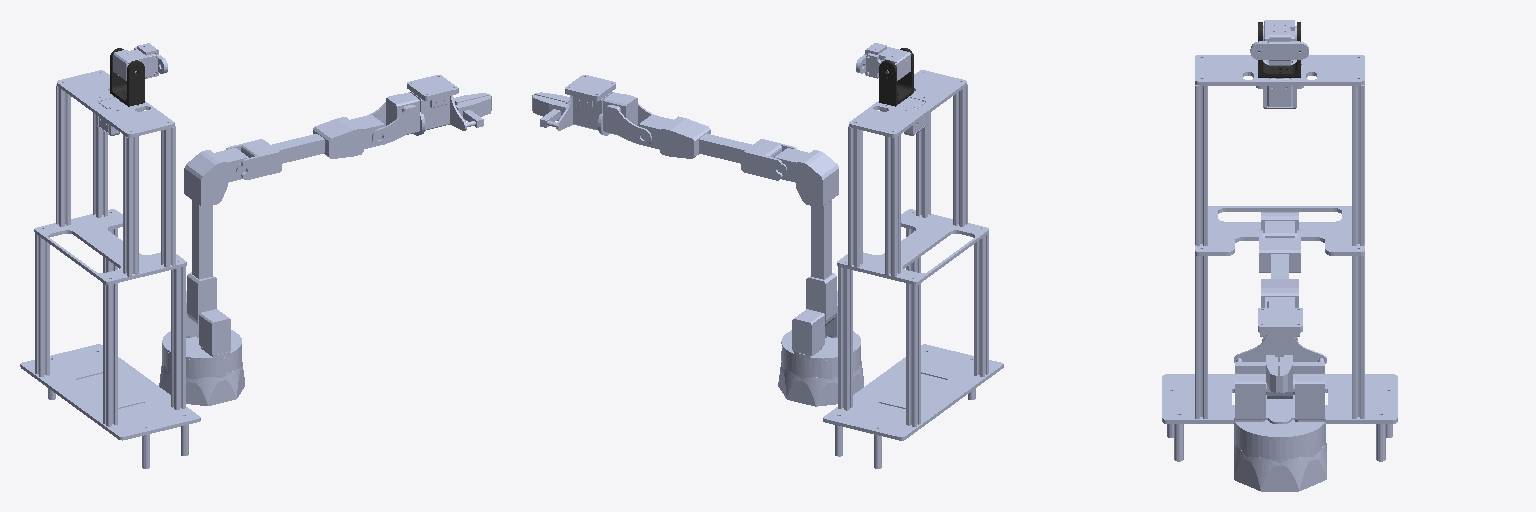
--- Render facts (derived) ---
3 views of the same robot in one strip: view 1: azimuth 30°, elevation 25°; view 2: azimuth 150°, elevation 25°; view 3: azimuth 270°, elevation 25° (orthographic).
Model locobot with 25 links and 24 joints (7 revolute, 2 continuous, 2 prismatic, 13 fixed), rooted at base_footprint, posed all joints at 0.
Links seen in each view (by area): view 1: cam_mount, elbow_link, forearm_link, arm_base_link, shoulder_link, wrist_link, gripper_link, head_pan_link, head_tilt_link, ar_tag; view 2: cam_mount, elbow_link, forearm_link, arm_base_link, shoulder_link, wrist_link, gripper_link, head_pan_link, head_tilt_link, ar_tag; view 3: cam_mount, arm_base_link, shoulder_link, forearm_link, gripper_link, head_tilt_link, elbow_link, ar_tag, head_pan_link.
Boxes of the visible links, left/top/right/bottom form: cam_mount: left=20, top=70, right=200, bottom=468; elbow_link: left=184, top=148, right=248, bottom=325; forearm_link: left=226, top=115, right=385, bottom=179; arm_base_link: left=159, top=345, right=244, bottom=405; shoulder_link: left=162, top=291, right=241, bottom=359; wrist_link: left=369, top=92, right=419, bottom=145; gripper_link: left=410, top=92, right=483, bottom=135; head_pan_link: left=110, top=48, right=144, bottom=106; head_tilt_link: left=113, top=43, right=167, bottom=80; ar_tag: left=407, top=75, right=458, bottom=107; cam_mount: left=823, top=70, right=1003, bottom=468; elbow_link: left=774, top=148, right=838, bottom=325; forearm_link: left=637, top=115, right=797, bottom=180; arm_base_link: left=778, top=347, right=863, bottom=406; shoulder_link: left=781, top=291, right=860, bottom=360; wrist_link: left=603, top=92, right=656, bottom=145; gripper_link: left=540, top=92, right=612, bottom=135; head_pan_link: left=879, top=48, right=913, bottom=106; head_tilt_link: left=856, top=43, right=910, bottom=80; ar_tag: left=565, top=75, right=615, bottom=107; cam_mount: left=1162, top=55, right=1397, bottom=461; arm_base_link: left=1234, top=420, right=1326, bottom=491; shoulder_link: left=1234, top=374, right=1325, bottom=439; forearm_link: left=1259, top=230, right=1300, bottom=307; gripper_link: left=1234, top=333, right=1326, bottom=373; head_tilt_link: left=1250, top=20, right=1308, bottom=65; elbow_link: left=1261, top=212, right=1298, bottom=398; ar_tag: left=1258, top=308, right=1302, bottom=339; head_pan_link: left=1258, top=22, right=1300, bottom=77.
Size in the robot's own frame: 0.6194 by 0.26 by 0.5263 metres.
12 mesh visuals loaded from 16 distinct referenced files (12 binary STL); not drawn: 3 (reference not matched to a file when rendering), 3 (file found but could not be loaded).

robot.urdf — locobot:
<?xml version="1.0" ?>
<robot name="locobot">
    <!-- Kobuki -->
    <link name="base_footprint"/>
    <!--
       Base link is set at the bottom of the base mould.
       This is done to be compatible with the way base link
       was configured for turtlebot 1. Refer to

       https://github.com/turtlebot/turtlebot/issues/40

       To put the base link at the more oft used wheel
       axis, set the z-distance from the base_footprint
       to 0.352.
      -->
    <joint name="base_joint" type="fixed">
        <origin rpy="0 0 0" xyz="0 0 0.0102"/>
        <parent link="base_footprint"/>
        <child link="base_link"/>
    </joint>
    <link name="base_link">
        <visual>
            <geometry>
                <!-- new mesh -->
                <mesh filename="package://locobot_description/meshes/main_body.dae"/>
            </geometry>
            <origin rpy="0 0 0" xyz="0.001 0 0.05199"/>
        </visual>
        <collision name="base">
            <geometry>
                <cylinder length="0.10938" radius="0.178"/>
            </geometry>
            <origin rpy="0 0 0" xyz="0.0 0 0.05949"/>
        </collision>
        <inertial>
            <!-- COM experimentally determined -->
            <origin xyz="0.01 0 0"/>
            <mass value="2.4"/>
            <!-- 2.4/2.6 kg for small/big battery pack -->
            <!-- Kobuki's inertia tensor is approximated by a cylinder with homogeneous mass distribution
             More details: http://en.wikipedia.org/wiki/List_of_moment_of_inertia_tensors
             m = 2.4 kg; h = 0.09 m; r = 0.175 m
             ixx = 1/12 * m * (3 * r^2 + h^2)
             iyy = 1/12 * m * (3 * r^2 + h^2)
             izz = 1/2 * m * r^2
          -->
            <inertia ixx="0.019995" ixy="0.0" ixz="0.0" iyy="0.019995" iyz="0.0" izz="0.03675"/>
        </inertial>
    </link>
    <joint name="wheel_left_joint" type="continuous">
        <parent link="base_link"/>
        <child link="wheel_left_link"/>
        <origin rpy="-1.57079632679 0 0" xyz="0.00 0.115 0.0250"/>
        <axis xyz="0 0 1"/>
    </joint>
    <link name="wheel_left_link">
        <visual>
            <geometry>
                <mesh filename="package://locobot_description/meshes/wheel.dae"/>
            </geometry>
            <origin rpy="0 0 0" xyz="0 0 0"/>
        </visual>
        <collision>
            <geometry>
                <cylinder length="0.0206" radius="0.0352"/>
            </geometry>
            <origin rpy="0 0 0" xyz="0 0 0"/>
        </collision>
        <inertial>
            <mass value="0.01"/>
            <origin xyz="0 0 0"/>
            <inertia ixx="0.001" ixy="0.0" ixz="0.0" iyy="0.001" iyz="0.0" izz="0.001"/>
        </inertial>
    </link>
    <joint name="wheel_right_joint" type="continuous">
        <parent link="base_link"/>
        <child link="wheel_right_link"/>
        <origin rpy="-1.57079632679 0 0" xyz="0.00 -0.115 0.0250"/>
        <axis xyz="0 0 1"/>
    </joint>
    <link name="wheel_right_link">
        <visual>
            <geometry>
                <mesh filename="package://locobot_description/meshes/wheel.dae"/>
            </geometry>
            <origin rpy="0 0 0" xyz="0 0 0"/>
        </visual>
        <collision>
            <geometry>
                <cylinder length="0.0206" radius="0.0350"/>
            </geometry>
            <origin rpy="0 0 0" xyz="0 0 0"/>
        </collision>
        <inertial>
            <mass value="0.01"/>
            <origin xyz="0 0 0"/>
            <inertia ixx="0.001" ixy="0.0" ixz="0.0" iyy="0.001" iyz="0.0" izz="0.001"/>
        </inertial>
    </link>
    <joint name="caster_front_joint" type="fixed">
        <parent link="base_link"/>
        <child link="caster_front_link"/>
        <origin rpy="-1.57079632679 0 0" xyz="0.115 0.0 0.007"/>
    </joint>
    <link name="caster_front_link">
        <collision>
            <geometry>
                <cylinder length="0.0176" radius="0.017"/>
            </geometry>
            <origin rpy="0 0 0" xyz="0 0 0"/>
        </collision>
        <inertial>
            <mass value="0.01"/>
            <origin xyz="0 0 0"/>
            <inertia ixx="0.001" ixy="0.0" ixz="0.0" iyy="0.001" iyz="0.0" izz="0.001"/>
        </inertial>
    </link>
    <joint name="caster_back_joint" type="fixed">
        <parent link="base_link"/>
        <child link="caster_back_link"/>
        <origin rpy="-1.57079632679 0 0" xyz="-0.135 0.0 0.009"/>
    </joint>
    <link name="caster_back_link">
        <collision>
            <geometry>
                <cylinder length="0.0176" radius="0.017"/>
            </geometry>
            <origin rpy="0 0 0" xyz="0 0 0"/>
        </collision>
        <inertial>
            <mass value="0.01"/>
            <origin xyz="0 0 0"/>
            <inertia ixx="0.001" ixy="0.0" ixz="0.0" iyy="0.001" iyz="0.0" izz="0.001"/>
        </inertial>
    </link>
    <!-- Kobuki's sensors -->
    <joint name="gyro_joint" type="fixed">
        <axis xyz="0 1 0"/>
        <origin rpy="0 0 0" xyz="0.056 0.062 0.0202"/>
        <parent link="base_link"/>
        <child link="gyro_link"/>
    </joint>
    <link name="gyro_link">
        <inertial>
            <mass value="0.001"/>
            <origin rpy="0 0 0" xyz="0 0 0"/>
            <inertia ixx="0.0001" ixy="0" ixz="0" iyy="0.000001" iyz="0" izz="0.0001"/>
        </inertial>
    </link>
    <joint name="cliff_sensor_left_joint" type="fixed">
        <origin rpy="0 1.57079632679 0" xyz="0.08734 0.13601 0.0214"/>
        <parent link="base_link"/>
        <child link="cliff_sensor_left_link"/>
    </joint>
    <link name="cliff_sensor_left_link">
        <inertial>
            <mass value="0.0001"/>
            <origin xyz="0 0 0"/>
            <inertia ixx="0.0001" ixy="0.0" ixz="0.0" iyy="0.0001" iyz="0.0" izz="0.0001"/>
        </inertial>
    </link>
    <joint name="cliff_sensor_right_joint" type="fixed">
        <origin rpy="0 1.57079632679 0" xyz="0.085 -0.13601 0.0214"/>
        <parent link="base_link"/>
        <child link="cliff_sensor_right_link"/>
    </joint>
    <link name="cliff_sensor_right_link">
        <inertial>
            <mass value="0.0001"/>
            <origin xyz="0 0 0"/>
            <inertia ixx="0.0001" ixy="0.0" ixz="0.0" iyy="0.0001" iyz="0.0" izz="0.0001"/>
        </inertial>
    </link>
    <joint name="cliff_sensor_front_joint" type="fixed">
        <origin rpy="0 1.57079632679 0" xyz="0.156 0.00 0.0214"/>
        <parent link="base_link"/>
        <child link="cliff_sensor_front_link"/>
    </joint>
    <link name="cliff_sensor_front_link">
        <inertial>
            <mass value="0.0001"/>
            <origin xyz="0 0 0"/>
            <inertia ixx="0.0001" ixy="0.0" ixz="0.0" iyy="0.0001" iyz="0.0" izz="0.0001"/>
        </inertial>
    </link>
    <!-- plates  -->
    <link name="plate_1">
        <inertial>
            <origin rpy="0 0 0" xyz="0 0 0"/>
            <mass value="0.640128902693298"/>
            <inertia ixx="0.0212697824374231" ixy="-1.84819421839641E-07" ixz="0.00177278831625861" iyy="0.0200161122874848" iyz="1.82514218153984E-07" izz="0.00538401325307411"/>
        </inertial>
        <visual>
            <origin rpy="0 0 0" xyz="0 0 0"/>
            <geometry>
                <mesh filename="package://locobot_description/meshes/plate.STL"/>
            </geometry>
            <material name="">
                <color rgba="0.792156862745098 0.819607843137255 0.933333333333333 1"/>
            </material>
        </visual>
        <collision>
            <origin rpy="0 0 0" xyz="0 0 0"/>
            <geometry>
                <mesh filename="package://locobot_description/meshes/plate.STL"/>
            </geometry>
        </collision>
    </link>
    <joint name="plate_1_joint" type="fixed">
        <origin rpy="0 0 0" xyz="0.0973 0 0.0902375"/>
        <parent link="base_link"/>
        <child link="plate_1"/>
        <axis xyz="0 0 0"/>
    </joint>
    <link name="plate_2">
        <inertial>
            <origin rpy="0 0 0" xyz="0 0 0"/>
            <mass value="0.640128902693298"/>
            <inertia ixx="0.0212697824374231" ixy="-1.84819421839641E-07" ixz="0.00177278831625861" iyy="0.0200161122874848" iyz="1.82514218153984E-07" izz="0.00538401325307411"/>
        </inertial>
        <visual>
            <origin rpy="0 0 0" xyz="0 0 0"/>
            <geometry>
                <mesh filename="package://locobot_description/meshes/plate.STL"/>
            </geometry>
            <material name="">
                <color rgba="0.792156862745098 0.819607843137255 0.933333333333333 1"/>
            </material>
        </visual>
        <collision>
            <origin rpy="0 0 0" xyz="0 0 0"/>
            <geometry>
                <mesh filename="package://locobot_description/meshes/plate.STL"/>
            </geometry>
        </collision>
    </link>
    <joint name="plate_2_joint" type="fixed">
        <origin rpy="0 0 0" xyz="0 0 0.0047625"/>
        <parent link="plate_1"/>
        <child link="plate_2"/>
        <axis xyz="0 0 0"/>
    </joint>
    <!-- add arm -->
    <link name="arm_base_link">
        <inertial>
            <origin rpy="0 0 0" xyz="-1.86027246940057E-08 -1.84987775462994E-08 0.0400356424684456"/>
            <mass value="0.531491686912019"/>
            <inertia ixx="0.000533657400855491" ixy="-4.44205269454465E-09" ixz="2.11078566024265E-10" iyy="0.000533665698902565" iyz="5.02029005902419E-11" izz="0.00071572082392375"/>
        </inertial>
        <visual>
            <origin rpy="0 0 0" xyz="0 0 0"/>
            <geometry>
                <mesh filename="package://locobot_description/meshes/arm_base_link.STL"/>
            </geometry>
            <material name="">
                <color rgba="0.792156862745098 0.819607843137255 0.933333333333333 1"/>
            </material>
        </visual>
        <collision>
            <origin rpy="0 0 0" xyz="0 0 0"/>
            <geometry>
                <mesh filename="package://locobot_description/meshes/arm_base_link.STL"/>
            </geometry>
        </collision>
    </link>
    <joint name="arm_base_link_joint" type="fixed">
        <origin rpy="0 0 0" xyz="0 0 0.001"/>
        <parent link="plate_2"/>
        <child link="arm_base_link"/>
        <axis xyz="0 0 0"/>
    </joint>
    <link name="shoulder_link">
        <inertial>
            <origin rpy="0 0 0" xyz="-5.67968980068612E-05 1.09785478984274E-10 0.0228467386735302"/>
            <mass value="0.119861197293521"/>
            <inertia ixx="0.000161288180462291" ixy="7.59806211309873E-14" ixz="-1.45323090659527E-07" iyy="5.49696562437107E-05" iyz="1.81052501311883E-13" izz="0.000150800672543169"/>
        </inertial>
        <visual>
            <origin rpy="0 0 0" xyz="0 0 0"/>
            <geometry>
                <mesh filename="package://locobot_description/meshes/shoulder_link.STL"/>
            </geometry>
            <material name="">
                <color rgba="0.792156862745098 0.819607843137255 0.933333333333333 1"/>
            </material>
        </visual>
        <collision>
            <origin rpy="0 0 0" xyz="0 0 0"/>
            <geometry>
                <mesh filename="package://locobot_description/meshes/shoulder_link.STL"/>
            </geometry>
        </collision>
    </link>
    <joint name="joint_1" type="revolute">
        <origin rpy="0 0 0" xyz="0 0 0.072"/>
        <parent link="arm_base_link"/>
        <child link="shoulder_link"/>
        <axis xyz="0 0 1"/>
        <limit effort="10" lower="-1.57" upper="1.57" velocity="1"/>
    </joint>
    <link name="elbow_link">
        <inertial>
            <origin rpy="0 0 0" xyz="0.00959755948481227 -2.30930057287648E-10 0.134296795349987"/>
            <mass value="0.212482745791037"/>
            <inertia ixx="0.0011748973771367" ixy="-4.7094567420817E-13" ixz="-0.000132188939134774" iyy="0.00122350302249847" iyz="-5.48932537472287E-12" izz="9.02202689343621E-05"/>
        </inertial>
        <visual>
            <origin rpy="0 0 0" xyz="0 0 0"/>
            <geometry>
                <mesh filename="package://locobot_description/meshes/elbow_link.STL"/>
            </geometry>
            <material name="">
                <color rgba="0.792156862745098 0.819607843137255 0.933333333333333 1"/>
            </material>
        </visual>
        <collision>
            <origin rpy="0 0 0" xyz="0 0 0"/>
            <geometry>
                <mesh filename="package://locobot_description/meshes/elbow_link.STL"/>
            </geometry>
        </collision>
    </link>
    <joint name="joint_2" type="revolute">
        <origin rpy="0 0 0" xyz="0 0 0.04125"/>
        <parent link="shoulder_link"/>
        <child link="elbow_link"/>
        <axis xyz="0 1 0"/>
        <limit effort="10" lower="-1.57" upper="1.57" velocity="1"/>
    </joint>
    <link name="forearm_link">
        <inertial>
            <origin rpy="0 0 0" xyz="0.117829826272582 3.09310973110905E-15 -1.26218883678142E-08"/>
            <mass value="0.18746427435805"/>
            <inertia ixx="3.94142667601686E-05" ixy="-3.65830967659785E-19" ixz="9.25852572167442E-11" iyy="0.000725209569605637" iyz="-1.05290858715495E-18" izz="0.000737165881391993"/>
        </inertial>
        <visual>
            <origin rpy="0 0 0" xyz="0 0 0"/>
            <geometry>
                <mesh filename="package://locobot_description/meshes/forearm_link.STL"/>
            </geometry>
            <material name="">
                <color rgba="0.792156862745098 0.819607843137255 0.933333333333333 1"/>
            </material>
        </visual>
        <collision>
            <origin rpy="0 0 0" xyz="0 0 0"/>
            <geometry>
                <mesh filename="package://locobot_description/meshes/forearm_link.STL"/>
            </geometry>
        </collision>
    </link>
    <joint name="joint_3" type="revolute">
        <origin rpy="0 0 0" xyz="0.05 0 0.2"/>
        <parent link="elbow_link"/>
        <child link="forearm_link"/>
        <axis xyz="0 1 0"/>
        <limit effort="10" lower="-1.57" upper="1.57" velocity="1"/>
    </joint>
    <link name="wrist_link">
        <inertial>
            <origin rpy="0 0 0" xyz="0.0429410028407894 4.98644733821042E-05 0.0114266948023652"/>
            <mass value="0.0605921736680362"/>
            <inertia ixx="1.84998512056284E-05" ixy="-1.03256667343112E-08" ixz="-1.71865409274096E-06" iyy="2.08955068262134E-05" iyz="5.05203399787143E-09" izz="1.97857037442992E-05"/>
        </inertial>
        <visual>
            <origin rpy="0 0 0" xyz="0 0 0"/>
            <geometry>
                <mesh filename="package://locobot_description/meshes/wrist_link.STL"/>
            </geometry>
            <material name="">
                <color rgba="0.792156862745098 0.819607843137255 0.933333333333333 1"/>
            </material>
        </visual>
        <collision>
            <origin rpy="0 0 0" xyz="0 0 0"/>
            <geometry>
                <mesh filename="package://locobot_description/meshes/wrist_link.STL"/>
            </geometry>
        </collision>
    </link>
    <joint name="joint_4" type="revolute">
        <origin rpy="0 0 0" xyz="0.2002 0 0"/>
        <parent link="forearm_link"/>
        <child link="wrist_link"/>
        <axis xyz="0 1 0"/>
        <limit effort="1" lower="-1.57" upper="1.57" velocity="1"/>
    </joint>
    <link name="gripper_link">
        <inertial>
            <origin rpy="0 0 0" xyz="0.0311572802112565 -1.25977280754998E-05 0.0092307003092138"/>
            <mass value="0.0795745052466434"/>
            <inertia ixx="3.27413333929741E-05" ixy="3.7314060486416E-08" ixz="3.97669066588691E-06" iyy="4.47182985231326E-05" iyz="-9.49992756213297E-09" izz="5.02142570756738E-05"/>
        </inertial>
        <visual>
            <origin rpy="0 0 0" xyz="0 0 0"/>
            <geometry>
                <mesh filename="package://locobot_description/meshes/gripper_link.STL"/>
            </geometry>
            <material name="">
                <color rgba="0.792156862745098 0.819607843137255 0.933333333333333 1"/>
            </material>
        </visual>
        <collision>
            <origin rpy="0 0 0" xyz="0 0 0"/>
            <geometry>
                <mesh filename="package://locobot_description/meshes/gripper_link.STL"/>
            </geometry>
        </collision>
    </link>
    <joint name="joint_5" type="revolute">
        <origin rpy="0 0 0" xyz="0.063 0.0001 0"/>
        <parent link="wrist_link"/>
        <child link="gripper_link"/>
        <axis xyz="-1 0 0"/>
        <limit effort="1" lower="-1.57" upper="1.57" velocity="1"/>
    </joint>
    <link name="finger_r">
        <inertial>
            <origin rpy="0 0 0" xyz="0.0100191457715113 -0.00843835347348892 -0.00483280251641866"/>
            <mass value="0.0121931459003602"/>
            <inertia ixx="6.74016278931418E-07" ixy="-2.36459038775023E-07" ixz="3.1480125304693E-09" iyy="3.10966297287339E-06" iyz="1.19271018871704E-10" izz="2.77935600332309E-06"/>
        </inertial>
        <visual>
            <origin rpy="0 0 0" xyz="0 0 0"/>
            <geometry>
                <mesh filename="package://locobot_description/meshes/finger_r.STL"/>
            </geometry>
            <material name="">
                <color rgba="0.792156862745098 0.819607843137255 0.933333333333333 1"/>
            </material>
        </visual>
        <collision>
            <origin rpy="0 0 0" xyz="0 0 0"/>
            <geometry>
                <mesh filename="package://locobot_description/meshes/finger_r.STL"/>
            </geometry>
        </collision>
    </link>
    <joint name="joint_6" type="prismatic">
        <origin rpy="0 0 0" xyz="0.07285 0 0.0050143"/>
        <parent link="gripper_link"/>
        <child link="finger_r"/>
        <axis xyz="0 1 0"/>
        <limit effort="1" lower="-1" upper="0" velocity="1"/>
    </joint>
    <link name="finger_l">
        <inertial>
            <origin rpy="0 0 0" xyz="0.0100191599590265 0.00643833435729511 -0.00483280251641866"/>
            <mass value="0.0121931459003603"/>
            <inertia ixx="6.74017180959932E-07" ixy="2.3646368440071E-07" ixz="3.14801230297432E-09" iyy="3.10966207084492E-06" iyz="-1.19277023229564E-10" izz="2.77935600332313E-06"/>
        </inertial>
        <visual>
            <origin rpy="0 0 0" xyz="0 0 0"/>
            <geometry>
                <mesh filename="package://locobot_description/meshes/finger_l.STL"/>
            </geometry>
            <material name="">
                <color rgba="0.792156862745098 0.819607843137255 0.933333333333333 1"/>
            </material>
        </visual>
        <collision>
            <origin rpy="0 0 0" xyz="0 0 0"/>
            <geometry>
                <mesh filename="package://locobot_description/meshes/finger_l.STL"/>
            </geometry>
        </collision>
    </link>
    <joint name="joint_7" type="prismatic">
        <origin rpy="0 0 0" xyz="0.07285 0 0.0050143"/>
        <parent link="gripper_link"/>
        <child link="finger_l"/>
        <axis xyz="0 1 0"/>
        <limit effort="1" lower="0" upper="1" velocity="1"/>
    </joint>
    <link name="ar_tag">
        <inertial>
            <origin rpy="0 0 0" xyz="-1.59182528269852E-09 1.70641183422241E-09 -0.00509579048106218"/>
            <mass value="0.0202622634619862"/>
            <inertia ixx="4.71058333074219E-06" ixy="3.03778067070489E-12" ixz="6.65421687578365E-13" iyy="4.05773489073818E-06" iyz="1.37033485576347E-13" izz="7.92378853658606E-06"/>
        </inertial>
        <visual>
            <origin rpy="0 0 0" xyz="0 0 0"/>
            <geometry>
                <mesh filename="package://locobot_description/meshes/ar_tag.STL"/>
            </geometry>
            <material name="">
                <color rgba="0.792156862745098 0.819607843137255 0.933333333333333 1"/>
            </material>
        </visual>
        <collision>
            <origin rpy="0 0 0" xyz="0 0 0"/>
            <geometry>
                <mesh filename="package://locobot_description/meshes/ar_tag.STL"/>
            </geometry>
        </collision>
    </link>
    <joint name="ar_tag_joint" type="fixed">
        <origin rpy="0 0 0" xyz="0.0269499999999999 0 0.04315"/>
        <parent link="gripper_link"/>
        <child link="ar_tag"/>
        <axis xyz="0 0 0"/>
    </joint>
    <!-- need to add camera assembly -->
    <link name="cam_mount">
        <inertial>
            <origin rpy="0 0 0" xyz="0.00357169217419921 -0.000144750803528887 0.178406861295468"/>
            <mass value="0.508068698311304"/>
            <inertia ixx="0.0159487749924762" ixy="9.45818767875249E-08" ixz="-0.000266253609478166" iyy="0.0137751425461872" iyz="2.26699147122113E-06" izz="0.00331206257835318"/>
        </inertial>
        <visual>
            <origin rpy="0 0 0" xyz="0 0 0"/>
            <geometry>
                <mesh filename="package://locobot_description/meshes/cam_mount.STL"/>
            </geometry>
            <material name="">
                <color rgba="0.792156862745098 0.819607843137255 0.933333333333333 1"/>
            </material>
        </visual>
        <collision>
            <origin rpy="0 0 0" xyz="0 0 0"/>
            <geometry>
                <mesh filename="package://locobot_description/meshes/cam_mount.STL"/>
            </geometry>
        </collision>
    </link>
    <joint name="cam_mount_joint" type="fixed">
        <origin rpy="0 0 0" xyz="-0.03751 0 0.1331"/>
        <parent link="base_link"/>
        <child link="cam_mount"/>
        <axis xyz="0 0 0"/>
    </joint>
    <link name="head_pan_link">
        <inertial>
            <origin rpy="0 0 0" xyz="-1.35308431126191E-16 -2.97071395261028E-17 0.0220876265081744"/>
            <mass value="0.0182769203076134"/>
            <inertia ixx="1.32243845065555E-05" ixy="5.07660179129181E-13" ixz="1.067515220067E-20" iyy="7.13386116649085E-06" iyz="-1.32882457845217E-20" izz="7.83291781352837E-06"/>
        </inertial>
        <visual>
            <origin rpy="0 0 0" xyz="0 0 0"/>
            <geometry>
                <mesh filename="package://locobot_description/meshes/tilt_link.STL"/>
            </geometry>
            <material name="">
                <color rgba="0.250980392156863 0.250980392156863 0.250980392156863 1"/>
            </material>
        </visual>
        <collision>
            <origin rpy="0 0 0" xyz="0 0 0"/>
            <geometry>
                <mesh filename="package://locobot_description/meshes/tilt_link.STL"/>
            </geometry>
        </collision>
    </link>
    <joint name="head_pan_joint" type="revolute">
        <origin rpy="0 0 0" xyz="0.0240154841629213 -0.000373468229198185 0.4065"/>
        <parent link="cam_mount"/>
        <child link="head_pan_link"/>
        <axis xyz="0 0 1"/>
        <limit effort="1" lower="-1.57" upper="1.57" velocity="1"/>
    </joint>
    <link name="head_tilt_link">
        <inertial>
            <origin rpy="0 0 0" xyz="0.0168744200088311 -0.000442984145897884 -0.00405256422002387"/>
            <mass value="0.0547677687275323"/>
            <inertia ixx="1.07071738005716E-05" ixy="-1.46854788384565E-07" ixz="5.59529059364376E-08" iyy="1.77011620295824E-05" iyz="1.27587154712834E-09" izz="2.01583693170578E-05"/>
        </inertial>
        <visual>
            <origin rpy="0 0 0" xyz="0 0 0"/>
            <geometry>
                <mesh filename="package://locobot_description/meshes/roll_link.STL"/>
            </geometry>
            <material name="">
                <color rgba="0.792156862745098 0.819607843137255 0.933333333333333 1"/>
            </material>
        </visual>
        <collision>
            <origin rpy="0 0 0" xyz="0 0 0"/>
            <geometry>
                <mesh filename="package://locobot_description/meshes/roll_link.STL"/>
            </geometry>
        </collision>
    </link>
    <joint name="head_tilt_joint" type="revolute">
        <origin rpy="0 0 0" xyz="0 0 0.05"/>
        <parent link="head_pan_link"/>
        <child link="head_tilt_link"/>
        <axis xyz="0 1 0"/>
        <limit effort="1" lower="-1.57" upper="1.57" velocity="1"/>
    </joint>
    <link name="camera_link">
        <inertial>
            <origin rpy="0 0 0" xyz="-0.0132722976093535 0.00168171470080143 2.49829664994428E-06"/>
            <mass value="0.0381925651163644"/>
            <inertia ixx="2.4688255642946E-05" ixy="1.60697655569215E-07" ixz="1.2993241737711E-08" iyy="3.66669176935806E-06" iyz="1.30215657011203E-08" izz="2.48602467766615E-05"/>
        </inertial>
        <visual>
            <origin rpy="0 0 0" xyz="0 0 0"/>
            <geometry>
                <mesh filename="package://locobot_description/meshes/camera_link.STL"/>
            </geometry>
            <material name="">
                <color rgba="0.792156862745098 0.819607843137255 0.933333333333333 1"/>
            </material>
        </visual>
        <collision>
            <origin rpy="0 0 0" xyz="0 0 0"/>
            <geometry>
                <mesh filename="package://locobot_description/meshes/camera_link.STL"/>
            </geometry>
        </collision>
    </link>
    <joint name="camera_joint" type="fixed">
        <origin rpy="0 0 0" xyz="0.06705 0 -0.00425"/>
        <parent link="head_tilt_link"/>
        <child link="camera_link"/>
        <axis xyz="0 0 0"/>
    </joint>
    <!-- Gazebo Plugins -->
    <gazebo>
        <plugin filename="libgazebo_ros_control.so" name="gazebo_ros_control">
            <robotNamespace>/</robotNamespace>
            <legacyModeNS>true</legacyModeNS>
        </plugin>
    </gazebo>
    <!-- Camera joints -->
    <transmission name="tran_head_tilt">
        <type>transmission_interface/SimpleTransmission</type>
        <joint name="head_tilt_joint">
            <hardwareInterface>hardware_interface/EffortJointInterface</hardwareInterface>
        </joint>
        <actuator name="head_tilt_motor">
            <hardwareInterface>hardware_interface/EffortJointInterface</hardwareInterface>
            <mechanicalReduction>1</mechanicalReduction>
        </actuator>
    </transmission>
    <transmission name="tran_head_pan">
        <type>transmission_interface/SimpleTransmission</type>
        <joint name="head_pan_joint">
            <hardwareInterface>hardware_interface/EffortJointInterface</hardwareInterface>
        </joint>
        <actuator name="head_pan_motor">
            <hardwareInterface>hardware_interface/EffortJointInterface</hardwareInterface>
            <mechanicalReduction>1</mechanicalReduction>
        </actuator>
    </transmission>
    <!-- Arm joints -->
    <transmission name="tran_1">
        <type>transmission_interface/SimpleTransmission</type>
        <joint name="joint_1">
            <hardwareInterface>hardware_interface/EffortJointInterface</hardwareInterface>
        </joint>
        <actuator name="motor_1">
            <hardwareInterface>hardware_interface/EffortJointInterface</hardwareInterface>
            <mechanicalReduction>1</mechanicalReduction>
        </actuator>
    </transmission>
    <transmission name="tran_2">
        <type>transmission_interface/SimpleTransmission</type>
        <joint name="joint_2">
            <hardwareInterface>hardware_interface/EffortJointInterface</hardwareInterface>
        </joint>
        <actuator name="motor_2">
            <hardwareInterface>hardware_interface/EffortJointInterface</hardwareInterface>
            <mechanicalReduction>1</mechanicalReduction>
        </actuator>
    </transmission>
    <transmission name="tran_3">
        <type>transmission_interface/SimpleTransmission</type>
        <joint name="joint_3">
            <hardwareInterface>hardware_interface/EffortJointInterface</hardwareInterface>
        </joint>
        <actuator name="motor_3">
            <hardwareInterface>hardware_interface/EffortJointInterface</hardwareInterface>
            <mechanicalReduction>1</mechanicalReduction>
        </actuator>
    </transmission>
    <transmission name="tran_4">
        <type>transmission_interface/SimpleTransmission</type>
        <joint name="joint_4">
            <hardwareInterface>hardware_interface/EffortJointInterface</hardwareInterface>
        </joint>
        <actuator name="motor_4">
            <hardwareInterface>hardware_interface/EffortJointInterface</hardwareInterface>
            <mechanicalReduction>1</mechanicalReduction>
        </actuator>
    </transmission>
    <transmission name="tran_5">
        <type>transmission_interface/SimpleTransmission</type>
        <joint name="joint_5">
            <hardwareInterface>hardware_interface/EffortJointInterface</hardwareInterface>
        </joint>
        <actuator name="motor_5">
            <hardwareInterface>hardware_interface/EffortJointInterface</hardwareInterface>
            <mechanicalReduction>1</mechanicalReduction>
        </actuator>
    </transmission>
    <transmission name="tran_6">
        <type>transmission_interface/SimpleTransmission</type>
        <joint name="joint_6">
            <hardwareInterface>hardware_interface/EffortJointInterface</hardwareInterface>
        </joint>
        <actuator name="motor_6">
            <hardwareInterface>hardware_interface/EffortJointInterface</hardwareInterface>
            <mechanicalReduction>1</mechanicalReduction>
        </actuator>
    </transmission>
    <transmission name="tran_7">
        <type>transmission_interface/SimpleTransmission</type>
        <joint name="joint_7">
            <hardwareInterface>hardware_interface/EffortJointInterface</hardwareInterface>
        </joint>
        <actuator name="motor_7">
            <hardwareInterface>hardware_interface/EffortJointInterface</hardwareInterface>
            <mechanicalReduction>1</mechanicalReduction>
        </actuator>
    </transmission>
    <!-- camera -->
    <gazebo reference="camera_link">
        <sensor name="camera_frame_sensor" type="depth">
            <always_on>true</always_on>
            <update_rate>30.0</update_rate>
            <camera>
                <horizontal_fov>0.994837</horizontal_fov>
                <image>
                    <format>R8G8B8</format>
                    <width>640</width>
                    <height>480</height>
                </image>
                <clip>
                    <near>0.01</near>
                    <far>10</far>
                </clip>
            </camera>
            <plugin filename="libgazebo_ros_openni_kinect.so" name="camera_frame_controller">
                <alwaysOn>true</alwaysOn>
                <updateRate>30.0</updateRate>
                <cameraName>camera</cameraName>
                <imageTopicName>color/image_raw</imageTopicName>
                <cameraInfoTopicName>color/camera_info</cameraInfoTopicName>
                <depthImageTopicName>aligned_depth_to_color/image_raw</depthImageTopicName>
                <depthImageCameraInfoTopicName>aligned_depth_to_color/camera_info</depthImageCameraInfoTopicName>
                <pointCloudTopicName>depth_registered/points</pointCloudTopicName>
                <frameName>camera_color_optical_frame</frameName>
                <pointCloudCutoff>0</pointCloudCutoff>
                <pointCloudCutoffMax>10.0</pointCloudCutoffMax>
                <distortionK1>0.00000001</distortionK1>
                <distortionK2>0.00000001</distortionK2>
                <distortionK3>0.00000001</distortionK3>
                <distortionT1>0.00000001</distortionT1>
                <distortionT2>0.00000001</distortionT2>
                <CxPrime>0</CxPrime>
                <Cx>0</Cx>
                <Cy>0</Cy>
                <focalLength>0</focalLength>
                <hackBaseline>0</hackBaseline>
            </plugin>
        </sensor>
    </gazebo>
    <!--      <gazebo reference="cam_mount"><self_collide>true</self_collide></gazebo><self_collide>true</self_collide>-->
    <!-- Gazebo plugins for the base of the robot -->
    <!--     <gazebo><plugin name="kobuki_controller" filename="libgazebo_ros_kobuki.so"><publish_tf>1</publish_tf><left_wheel_joint_name>wheel_left_joint</left_wheel_joint_name><right_wheel_joint_name>wheel_right_joint</right_wheel_joint_name><wheel_separation>.230</wheel_separation><wheel_diameter>0.070</wheel_diameter><torque>1.0</torque><velocity_command_timeout>0.6</velocity_command_timeout><cliff_sensor_left_name>cliff_sensor_left</cliff_sensor_left_name><cliff_sensor_center_name>cliff_sensor_front</cliff_sensor_center_name><cliff_sensor_right_name>cliff_sensor_right</cliff_sensor_right_name><cliff_detection_threshold>0.04</cliff_detection_threshold><bumper_name>bumpers</bumper_name><imu_name>imu</imu_name></plugin></gazebo>-->
    


    <gazebo reference="wheel_left_link">
        <mu1>1.0</mu1>
        <mu2>1.0</mu2>
        <kp>1000000.0</kp>
        <kd>100.0</kd>
        <minDepth>0.001</minDepth>
        <maxVel>1.0</maxVel>
    </gazebo>
    <gazebo reference="wheel_right_link">
        <mu1>1.0</mu1>
        <mu2>1.0</mu2>
        <kp>1000000.0</kp>
        <kd>100.0</kd>
        <minDepth>0.001</minDepth>
        <maxVel>1.0</maxVel>
    </gazebo>
    <gazebo reference="caster_front_link">
        <mu1>0.0</mu1>
        <mu2>0.0</mu2>
        <kp>1000000.0</kp>
        <kd>100.0</kd>
        <minDepth>0.001</minDepth>
        <maxVel>1.0</maxVel>
    </gazebo>
	
   <gazebo reference="caster_back_link">
        <mu1>0.0</mu1>
        <mu2>0.0</mu2>
        <kp>1000000.0</kp>
        <kd>100.0</kd>
        <minDepth>0.001</minDepth>
        <maxVel>1.0</maxVel>
    </gazebo>


    <gazebo reference="cliff_sensor_left_link">
        <sensor name="cliff_sensor_left" type="ray">
            <always_on>true</always_on>
            <update_rate>50</update_rate>
            <visualize>true</visualize>
            <ray>
                <scan>
                    <horizontal>
                        <samples>50</samples>
                        <resolution>1.0</resolution>
                        <min_angle>-0.0436</min_angle>
                        <!-- -2.5 degree -->
                        <max_angle>0.0436</max_angle>
                        <!-- 2.5 degree -->
                    </horizontal>
                </scan>
                <range>
                    <min>0.01</min>
                    <max>0.15</max>
                    <resolution>1.0</resolution>
                </range>
            </ray>
        </sensor>
    </gazebo>
    <gazebo reference="cliff_sensor_right_link">
        <sensor name="cliff_sensor_right" type="ray">
            <always_on>true</always_on>
            <update_rate>50</update_rate>
            <visualize>true</visualize>
            <ray>
                <scan>
                    <horizontal>
                        <samples>50</samples>
                        <resolution>1.0</resolution>
                        <min_angle>-0.0436</min_angle>
                        <!-- -2.5 degree -->
                        <max_angle>0.0436</max_angle>
                        <!-- 2.5 degree -->
                    </horizontal>
                </scan>
                <range>
                    <min>0.01</min>
                    <max>0.15</max>
                    <resolution>1.0</resolution>
                </range>
            </ray>
        </sensor>
    </gazebo>
    <gazebo reference="cliff_sensor_front_link">
        <sensor name="cliff_sensor_front" type="ray">
            <always_on>true</always_on>
            <update_rate>50</update_rate>
            <visualize>true</visualize>
            <ray>
                <scan>
                    <horizontal>
                        <samples>50</samples>
                        <resolution>1.0</resolution>
                        <min_angle>-0.0436</min_angle>
                        <!-- -2.5 degree -->
                        <max_angle>0.0436</max_angle>
                        <!-- 2.5 degree -->
                    </horizontal>
                </scan>
                <range>
                    <min>0.01</min>
                    <max>0.15</max>
                    <resolution>1.0</resolution>
                </range>
            </ray>
        </sensor>
    </gazebo>

    <gazebo reference="base_link">
        <mu1>0.3</mu1>
        <mu2>0.3</mu2>
        <sensor type="contact" name="bumpers">
          <always_on>1</always_on>
          <update_rate>50.0</update_rate>
          <visualize>true</visualize>
          <contact>
            <collision>base_footprint</collision>
          </contact>
        </sensor>
      </gazebo>


    <gazebo reference="gyro_link">
        <sensor name="imu" type="imu">
            <always_on>true</always_on>
            <update_rate>50</update_rate>
            <visualize>false</visualize>
            <imu>
                <noise>
                    <type>gaussian</type>
                    <rate>
                        <mean>0.0</mean>
                        <stddev>0.00000196</stddev>
                        <!-- 0.25 x 0.25 (deg/s) -->
                        <bias_mean>0.0</bias_mean>
                        <bias_stddev>0.0</bias_stddev>
                    </rate>
                    <accel>
                        <!-- not used in the plugin and real robot, hence using tutorial values -->
                        <mean>0.0</mean>
                        <stddev>1.7e-2</stddev>
                        <bias_mean>0.1</bias_mean>
                        <bias_stddev>0.001</bias_stddev>
                    </accel>
                </noise>
            </imu>
        </sensor>
    </gazebo>

    <gazebo>
        <self_collide>true</self_collide>
    </gazebo>

<!--     <gazebo>
	    <plugin name="kobuki_controller" filename="libgazebo_ros_kobuki.so">
	      <publish_tf>1</publish_tf>
	      <publish_joint_states>0</publish_joint_states>
	      <left_wheel_joint_name>wheel_left_joint</left_wheel_joint_name>
	      <right_wheel_joint_name>wheel_right_joint</right_wheel_joint_name>
	      <wheel_separation>.230</wheel_separation>
	      <wheel_diameter>0.070</wheel_diameter>
	      <torque>1.0</torque>
	      <velocity_command_timeout>0.6</velocity_command_timeout>
	      <cliff_sensor_left_name>cliff_sensor_left</cliff_sensor_left_name>
	      <cliff_sensor_center_name>cliff_sensor_front</cliff_sensor_center_name>
	      <cliff_sensor_right_name>cliff_sensor_right</cliff_sensor_right_name>
	      <cliff_detection_threshold>0.04</cliff_detection_threshold>
	      <bumper_name>bumpers</bumper_name>
	      <robotNamespace>/base</robotNamespace>
        <imu_name>imu</imu_name>
	    </plugin>
	 </gazebo> -->


      <gazebo>  
         <plugin filename="libgazebo_ros_diff_drive.so" name="differential_drive_controller">   
             <alwaysOn>true</alwaysOn>  
             <legacyMode>false</legacyMode> 
            <updateRate>40</updateRate> 
            <leftJoint>wheel_left_joint</leftJoint> 
            <rightJoint>wheel_right_joint</rightJoint>  
            <wheelSeparation>0.230</wheelSeparation>    
            <wheelDiameter>0.070</wheelDiameter>    
            <wheelTorque>1.0</wheelTorque>  
            <!--wheelAcceleration>${wheel_accel}</wheelAcceleration-->  
            <commandTopic>mobile_base/commands/velocity</commandTopic>  
            <odometryTopic>odom</odometryTopic> 
            <odometryFrame>odom</odometryFrame> 
            <robotBaseFrame>base_footprint</robotBaseFrame> 
            <publishWheelJointState>true</publishWheelJointState>
        </plugin>   
        <plugin filename="libgazebo_ros_p3d.so" name="p3d_base_controller"> 
            <alwaysOn>true</alwaysOn>   
            <updateRate>100.0</updateRate>  
            <bodyName>base_link</bodyName>  
            <topicName>base/absolute_position</topicName>   
            <gaussianNoise>0</gaussianNoise>    
            <frameName>map</frameName>  
            <xyzOffsets>0 0 0</xyzOffsets>  
            <rpyOffsets>0 0 0</rpyOffsets>  
            <!--<interface:position name="p3d_base_position"/>-->   
        </plugin>   
    </gazebo>
</robot>
